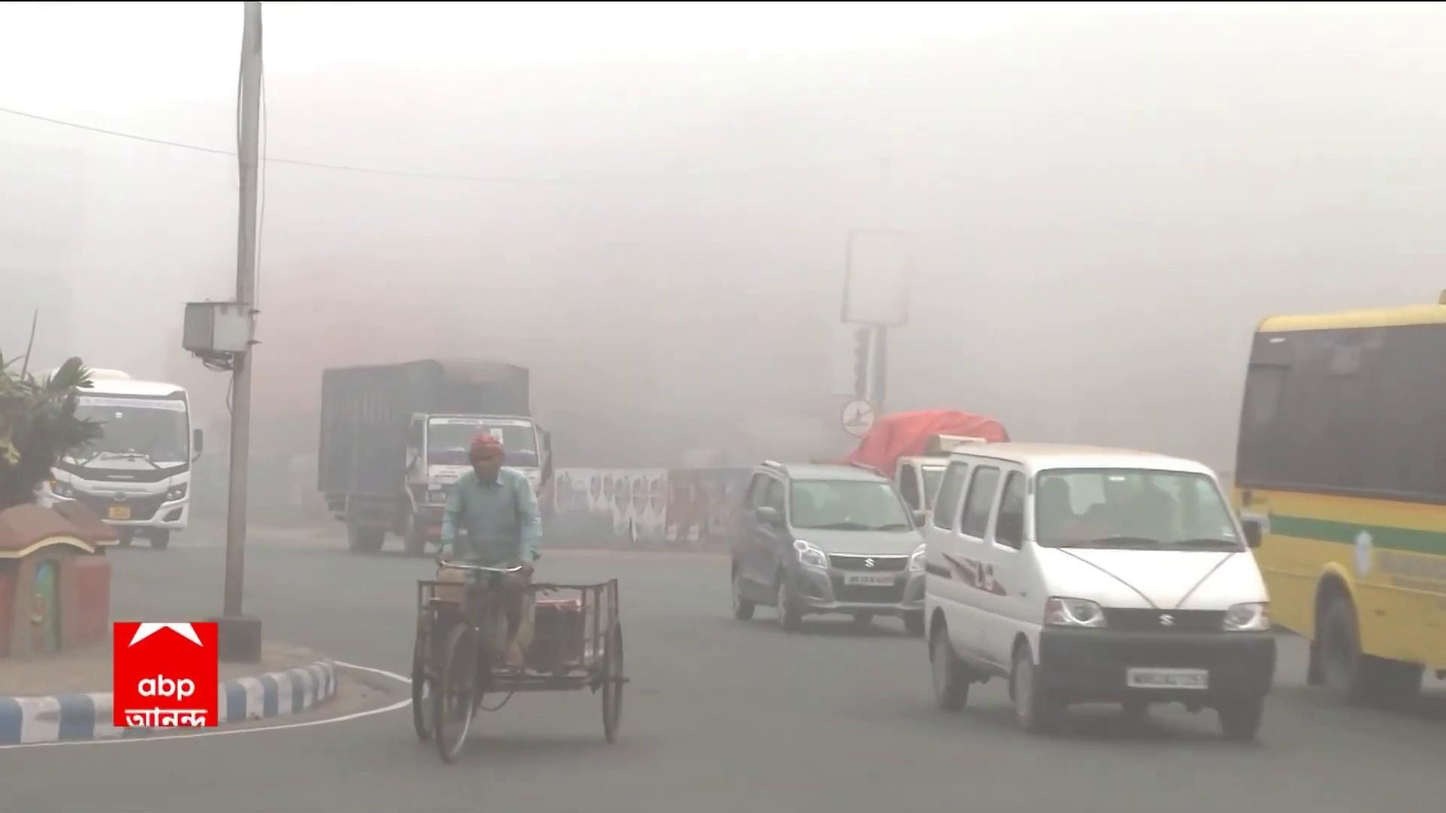Bus: (34, 364, 194, 560)
Car: (911, 441, 1275, 753), (723, 454, 925, 630)
Truck: (313, 362, 545, 561)
